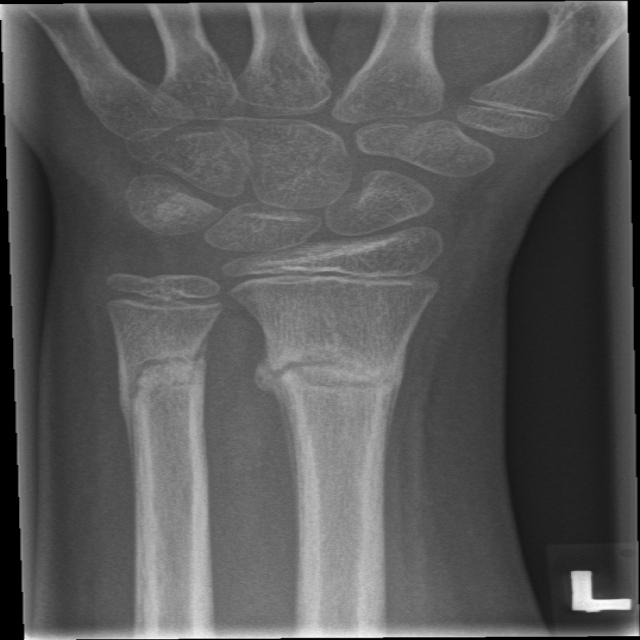radius fracture: (246, 310, 443, 486)
ulna fracture: (104, 328, 232, 460)
